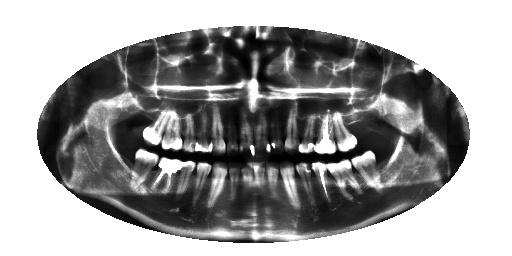i10healthy: (227, 156, 240, 216)
i11healthy: (205, 159, 229, 213)
i12healthy: (191, 159, 213, 212)
i13healthy: (173, 155, 196, 211)
i14healthy: (147, 149, 184, 209)
i15healthy: (127, 147, 159, 198)
i2healthy: (348, 144, 383, 198)
i3healthy: (326, 154, 360, 202)
i4healthy: (309, 157, 334, 207)
i5chipped: (293, 158, 316, 211)
i6decay: (277, 158, 301, 213)
i7decay: (263, 158, 282, 215)
i8healthy: (252, 162, 267, 215)
i9healthy: (238, 162, 254, 214)
u10decay: (221, 103, 242, 160)
u11healthy: (209, 102, 228, 160)
u12healthy: (191, 105, 214, 155)
u13healthy: (179, 111, 198, 154)
u14healthy: (160, 110, 183, 155)
u15healthy: (138, 104, 171, 149)
u3healthy: (329, 106, 361, 154)
u4healthy: (311, 108, 338, 160)
u5healthy: (296, 112, 318, 156)
u6decay: (280, 97, 304, 155)
u7decay: (265, 102, 286, 158)
u8healthy: (251, 107, 273, 160)
u9decay: (236, 104, 256, 160)
